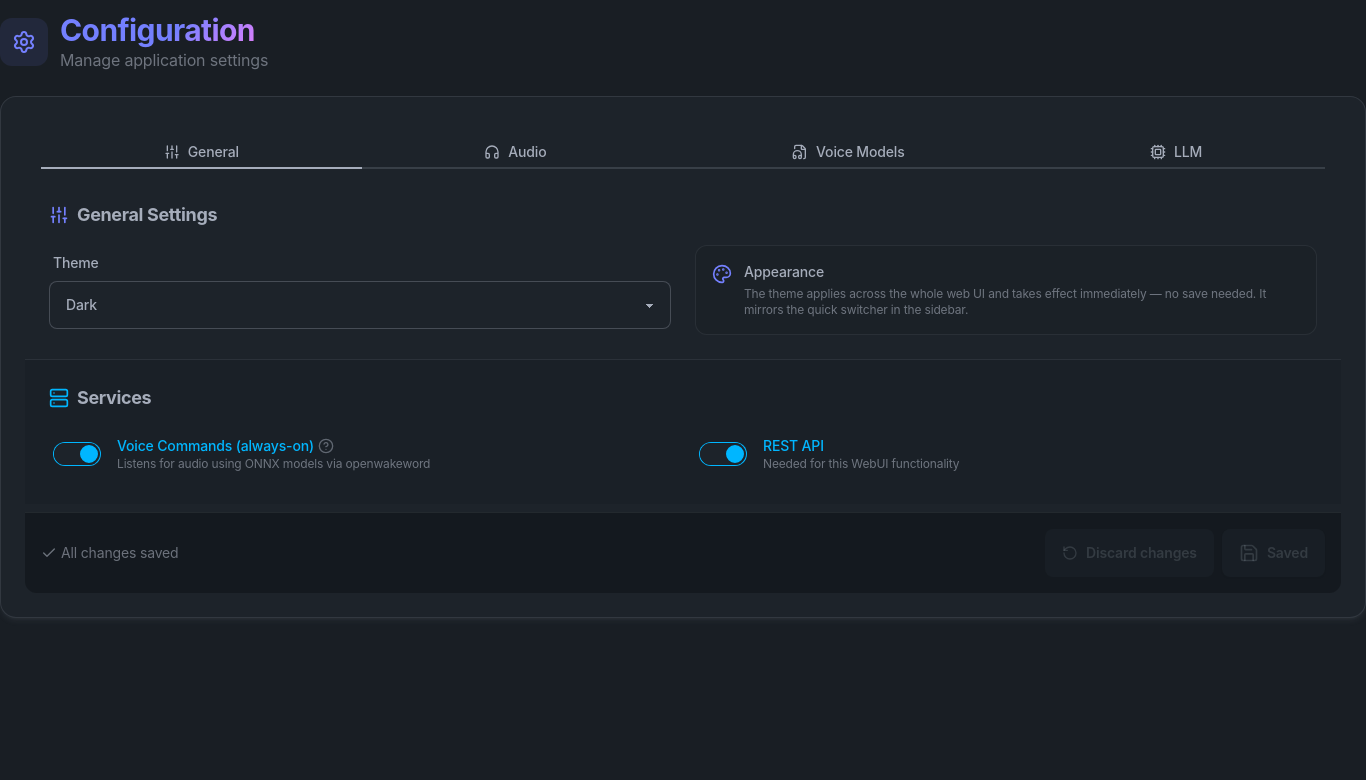
Test: ConfigurationPage audio device tests › mic test falls back to a generic message for empty errors
Click the tab "Audio".
click(515, 153)  # box [362,137,669,169]
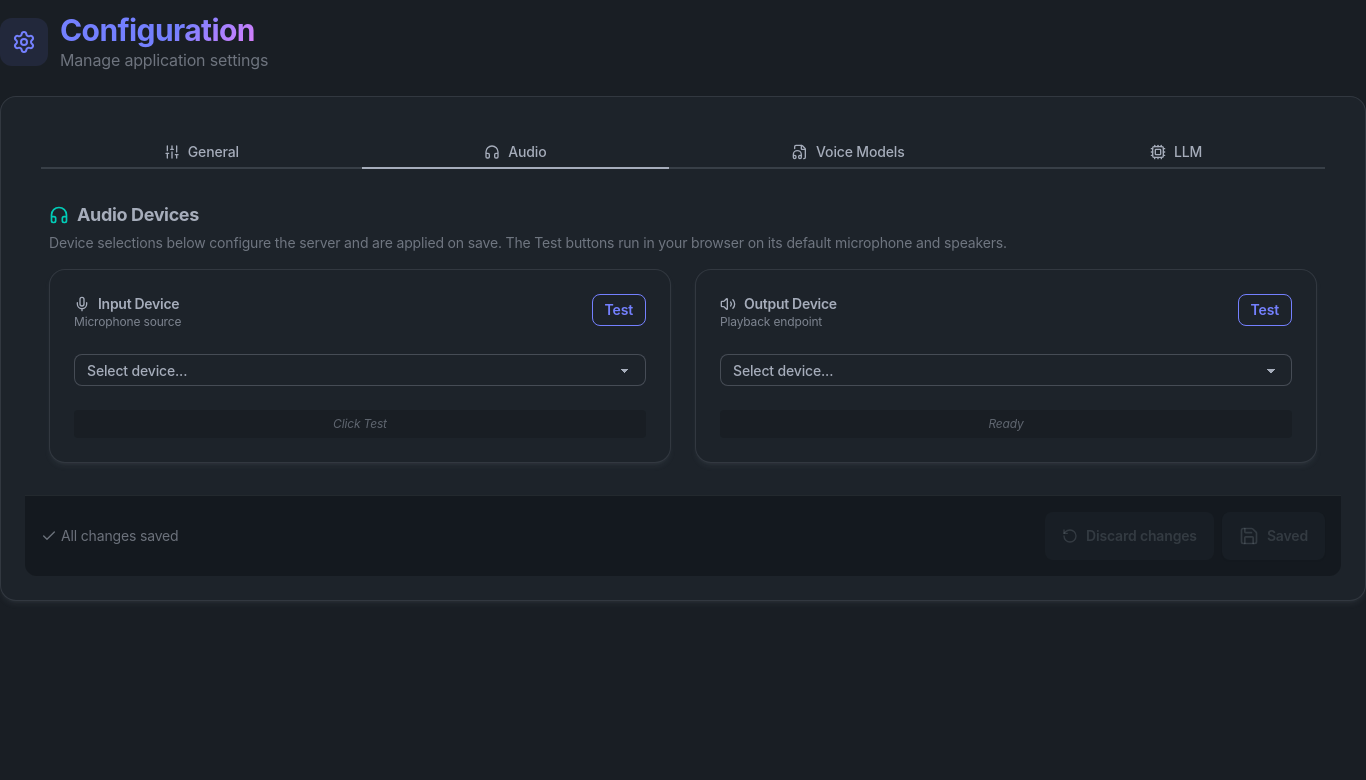
Click the button with test id "mic-test-button".
click(619, 310)  # box [592,294,646,326]
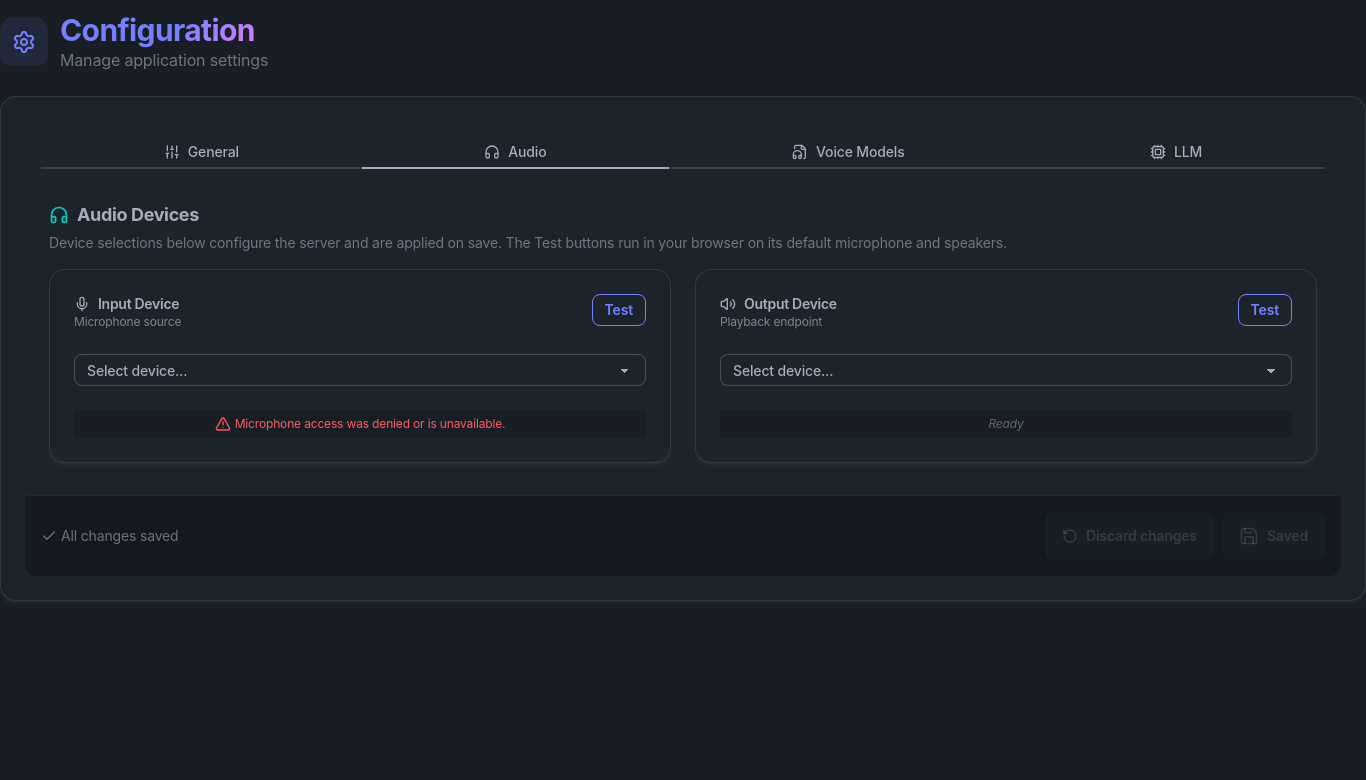
Expected: the element with test id "mic-test-result" reads "Microphone access was denied or is unavailable.", [235,416,505,431]
